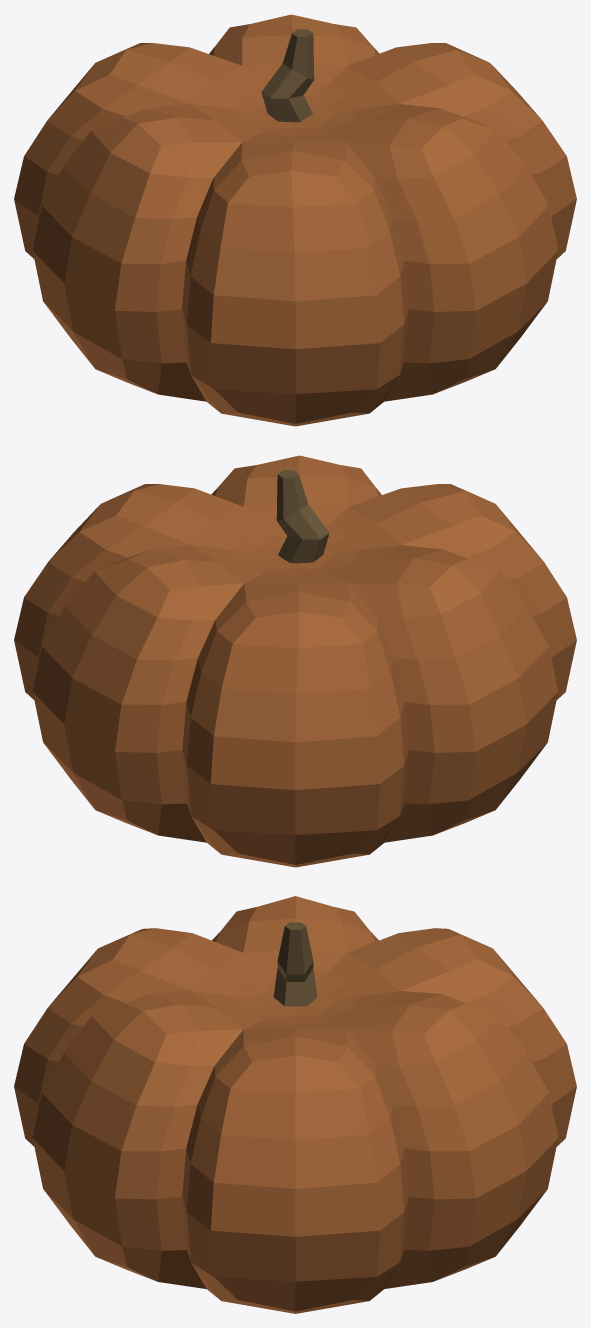
File: Pumpkin.glb
The picture shows the model from 3 angles, top to bottom: view 1: azimuth 30°, elevation 25°; view 2: azimuth 150°, elevation 25°; view 3: azimuth 270°, elevation 25°; orthographic projection.
Visible parts, largest first — view 1: Orange, Brown; view 2: Orange, Brown; view 3: Orange, Brown.
Part boxes in pixels (left/top/right/bottom): Orange: left=14, top=14, right=576, bottom=426; Brown: left=261, top=29, right=314, bottom=122; Orange: left=14, top=455, right=576, bottom=867; Brown: left=276, top=470, right=329, bottom=563; Orange: left=14, top=896, right=576, bottom=1313; Brown: left=273, top=922, right=317, bottom=1006.
Bounding box in the file's own units: 1.5 × 0.9309 × 1.51.
